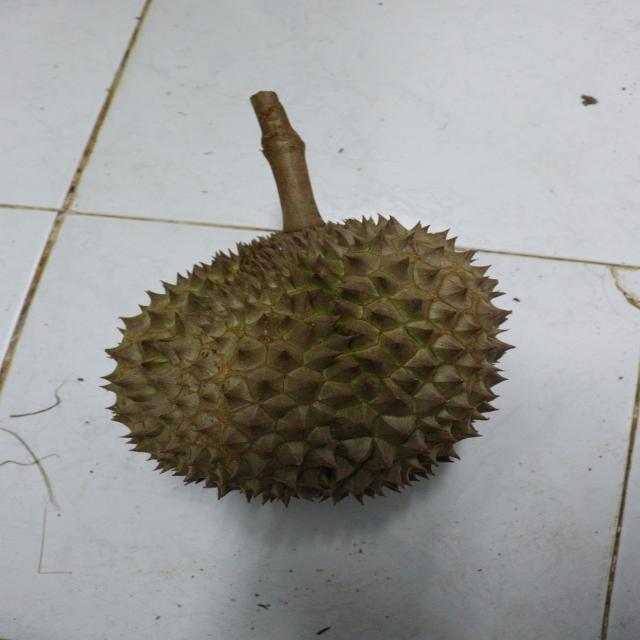mature: (96, 211, 515, 506)
